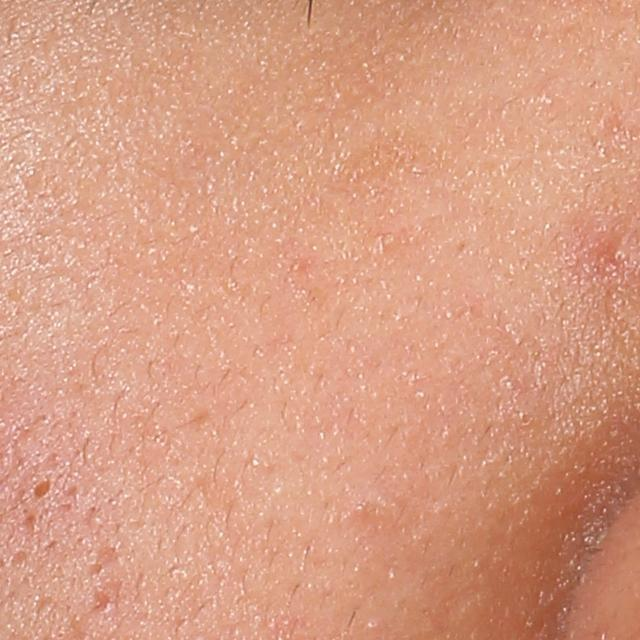atrophic_scar: (93, 587, 111, 614)
comedo: (24, 472, 60, 508)
papule: (610, 241, 637, 270)
